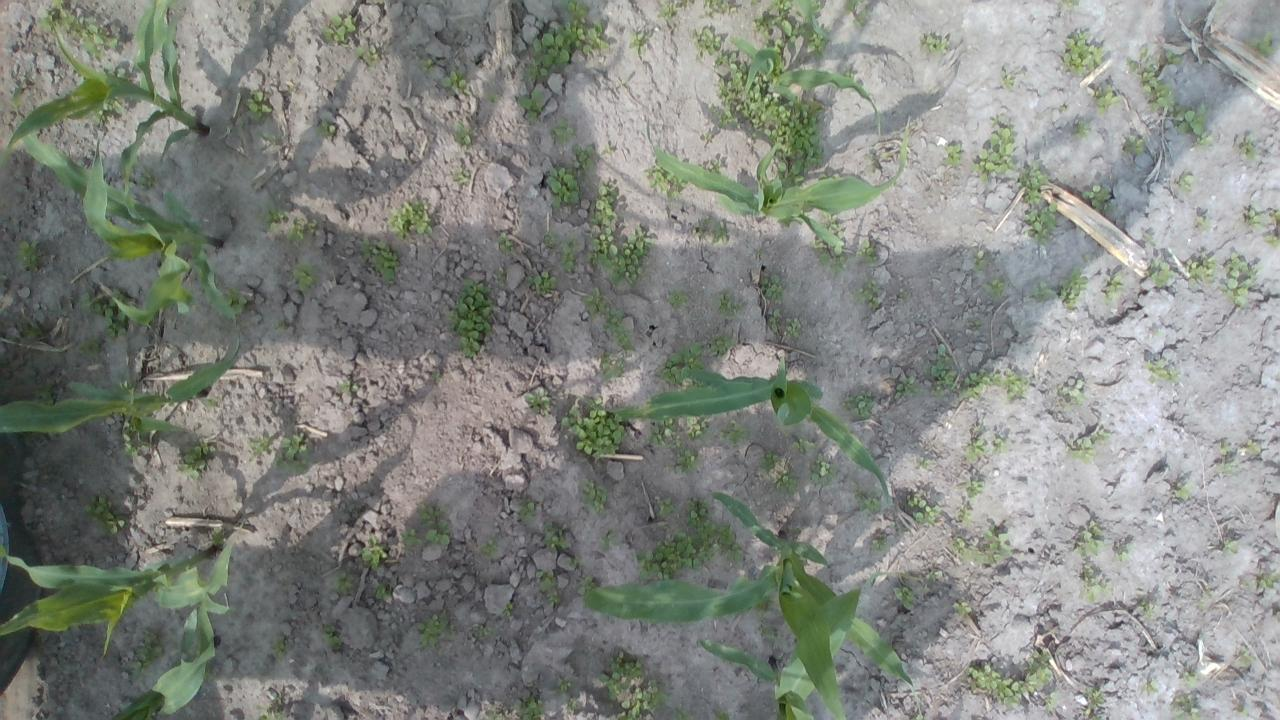Maize: (582, 490, 922, 720), (578, 354, 894, 520), (15, 108, 244, 326), (0, 0, 212, 221), (0, 538, 235, 714), (645, 114, 911, 252), (0, 331, 244, 456), (730, 33, 881, 142), (694, 637, 815, 720)
Weeds: (713, 61, 827, 184), (637, 495, 742, 580), (522, 0, 610, 81), (966, 650, 1056, 708), (36, 0, 121, 59), (598, 652, 670, 718), (561, 396, 628, 459), (592, 226, 656, 288), (448, 280, 496, 360), (73, 65, 131, 128), (1128, 46, 1182, 113), (584, 289, 633, 352), (972, 117, 1018, 184), (76, 289, 130, 338), (951, 526, 1012, 566), (752, 0, 799, 50), (656, 340, 706, 386), (961, 369, 1028, 403), (814, 214, 848, 278), (385, 197, 435, 239), (798, 0, 832, 61), (1062, 30, 1104, 78), (1224, 252, 1260, 308), (82, 494, 128, 536), (359, 238, 400, 284), (126, 633, 166, 680), (644, 162, 689, 202), (926, 345, 958, 397), (178, 437, 216, 480), (1016, 158, 1050, 205), (546, 165, 582, 208), (1174, 104, 1213, 143), (416, 610, 456, 648), (277, 432, 313, 474), (1024, 202, 1060, 244), (1242, 206, 1278, 247), (1069, 429, 1109, 464), (419, 504, 452, 546), (121, 419, 153, 460), (964, 434, 1009, 463), (1081, 562, 1112, 604), (592, 180, 620, 226), (1060, 268, 1090, 309), (517, 84, 548, 123), (321, 14, 357, 47), (1074, 520, 1106, 557), (906, 494, 941, 527), (691, 216, 729, 246), (1184, 253, 1218, 286), (841, 388, 876, 420), (806, 454, 838, 488), (1088, 84, 1122, 116), (1142, 258, 1176, 290), (359, 534, 388, 570), (769, 307, 800, 340), (220, 284, 250, 318), (1080, 682, 1108, 718), (649, 417, 678, 451), (582, 478, 608, 515), (692, 25, 724, 55), (256, 202, 286, 234), (1080, 183, 1114, 211), (852, 278, 881, 310), (1143, 358, 1179, 383), (14, 239, 42, 271), (1209, 439, 1232, 477), (292, 262, 320, 293), (684, 412, 713, 441), (536, 568, 558, 606), (556, 676, 578, 714), (526, 270, 558, 296), (247, 90, 273, 122), (1233, 132, 1259, 164), (524, 388, 552, 417), (759, 271, 785, 302), (544, 521, 570, 552), (705, 334, 736, 360), (716, 290, 744, 318), (1246, 33, 1278, 57), (698, 0, 738, 19), (719, 421, 747, 448), (1057, 378, 1084, 406), (1104, 273, 1128, 304), (672, 446, 698, 474), (1172, 694, 1200, 720), (599, 352, 624, 381), (758, 622, 788, 646), (440, 70, 470, 94), (515, 696, 546, 719), (449, 122, 474, 150), (920, 32, 950, 55), (558, 239, 577, 275), (853, 487, 880, 512), (286, 219, 314, 243), (550, 121, 576, 146), (511, 498, 536, 524), (776, 468, 800, 495), (894, 581, 918, 608), (657, 0, 686, 22), (981, 278, 1010, 300), (574, 144, 598, 170), (629, 30, 653, 56), (266, 636, 290, 662), (248, 434, 272, 459), (1255, 568, 1278, 594), (896, 375, 920, 399), (78, 334, 102, 358), (132, 166, 156, 190), (759, 450, 782, 475), (1170, 480, 1192, 506), (1122, 133, 1145, 157), (941, 140, 962, 166), (856, 239, 876, 265), (951, 498, 971, 524), (401, 526, 421, 552), (714, 50, 740, 69), (333, 378, 359, 397), (666, 286, 688, 308), (354, 44, 376, 66), (321, 626, 342, 649), (1238, 644, 1258, 668), (496, 232, 514, 258), (600, 531, 620, 554), (314, 118, 337, 138), (260, 702, 287, 719), (1236, 437, 1260, 456), (1033, 282, 1055, 302), (1112, 541, 1131, 564), (793, 436, 816, 454), (496, 602, 514, 625), (480, 538, 500, 558), (920, 570, 940, 590), (964, 478, 984, 498), (1071, 121, 1091, 140), (330, 573, 350, 592), (1135, 602, 1157, 619), (1177, 172, 1194, 194), (451, 169, 471, 187), (710, 703, 734, 718), (973, 250, 988, 272), (1178, 670, 1198, 686), (198, 397, 222, 410), (484, 707, 508, 720), (467, 622, 489, 636), (952, 602, 970, 619), (1219, 538, 1236, 556), (484, 89, 501, 106), (493, 266, 508, 285), (1191, 212, 1205, 232), (1000, 66, 1014, 86), (544, 231, 558, 250), (869, 535, 886, 550), (914, 456, 932, 470), (270, 318, 288, 332), (1060, 0, 1078, 12), (373, 586, 383, 598)
